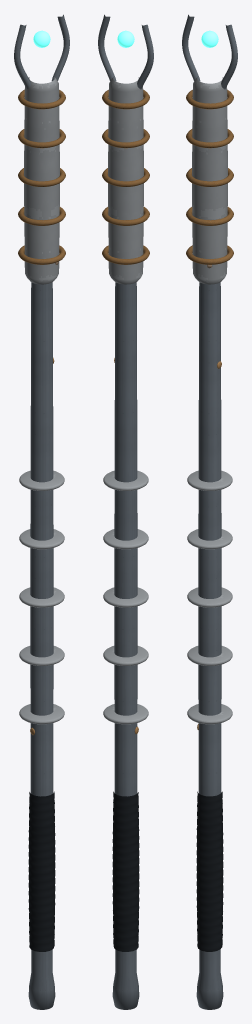
Rendered from channeling-rod.lod1.glb.
3 views of the same model, side by side, from view 1: azimuth 30°, elevation 25°; view 2: azimuth 150°, elevation 25°; view 3: azimuth 330°, elevation 25° (orthographic).
Parts seen in each view (by area): view 1: alloy / machined anodized alloy, ceramic / ceramic composite panel, polymer / stippled polymer, bronze / cast bronze with patina, energy / emissive field channel; view 2: alloy / machined anodized alloy, ceramic / ceramic composite panel, polymer / stippled polymer, bronze / cast bronze with patina, energy / emissive field channel; view 3: alloy / machined anodized alloy, ceramic / ceramic composite panel, polymer / stippled polymer, bronze / cast bronze with patina, energy / emissive field channel.
Part boxes in pixels (left/top/right/bottom): alloy / machined anodized alloy: left=14, top=14, right=69, bottom=1009; ceramic / ceramic composite panel: left=19, top=77, right=64, bottom=724; polymer / stippled polymer: left=28, top=791, right=55, bottom=951; bronze / cast bronze with patina: left=18, top=90, right=65, bottom=264; energy / emissive field channel: left=33, top=30, right=50, bottom=47; alloy / machined anodized alloy: left=98, top=14, right=153, bottom=1009; ceramic / ceramic composite panel: left=103, top=77, right=148, bottom=724; polymer / stippled polymer: left=112, top=791, right=139, bottom=951; bronze / cast bronze with patina: left=102, top=90, right=149, bottom=264; energy / emissive field channel: left=117, top=30, right=134, bottom=47; alloy / machined anodized alloy: left=182, top=14, right=237, bottom=1009; ceramic / ceramic composite panel: left=187, top=77, right=232, bottom=724; polymer / stippled polymer: left=196, top=791, right=223, bottom=951; bronze / cast bronze with patina: left=186, top=90, right=233, bottom=264; energy / emissive field channel: left=201, top=30, right=218, bottom=47.
Size of the model in its own units: 0.0903 by 1.52 by 0.0669.
Materials: 7 (4 with a texture image).
